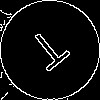T: (25, 25, 78, 80)
